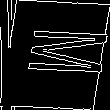M_E: (4, 30, 106, 80)
